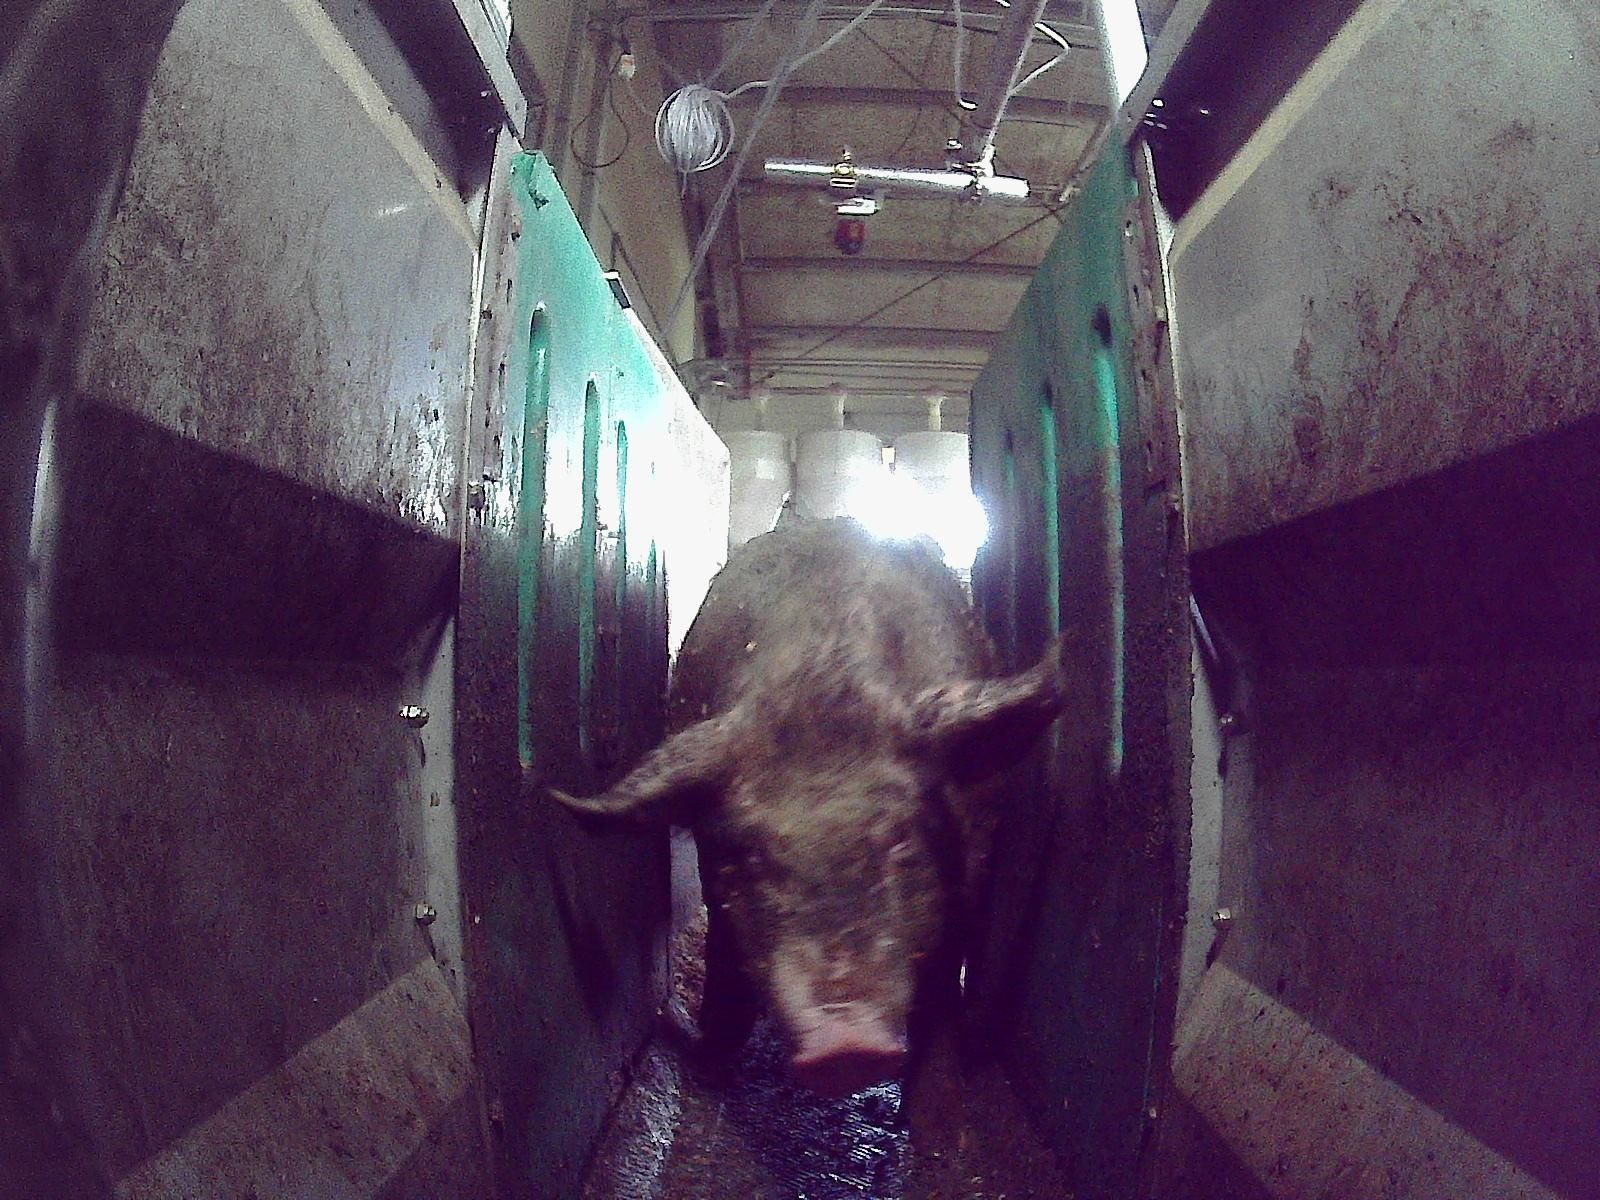Face: (697, 675, 939, 1096)
